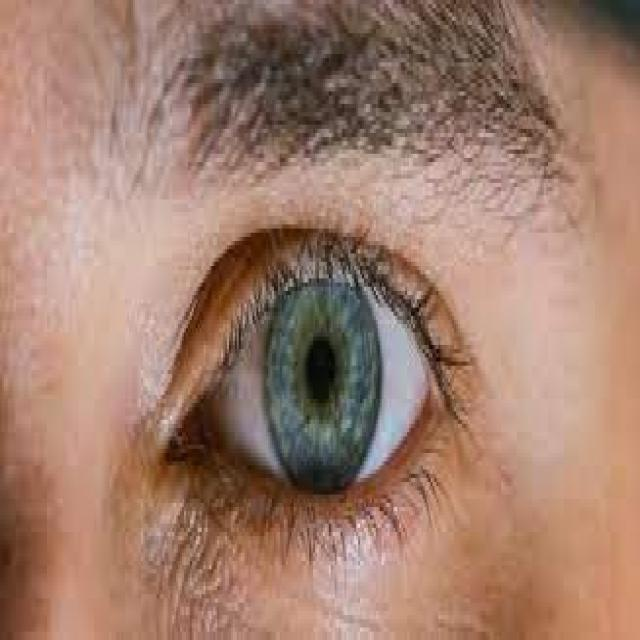Eyes-iris: (256, 254, 388, 496)
